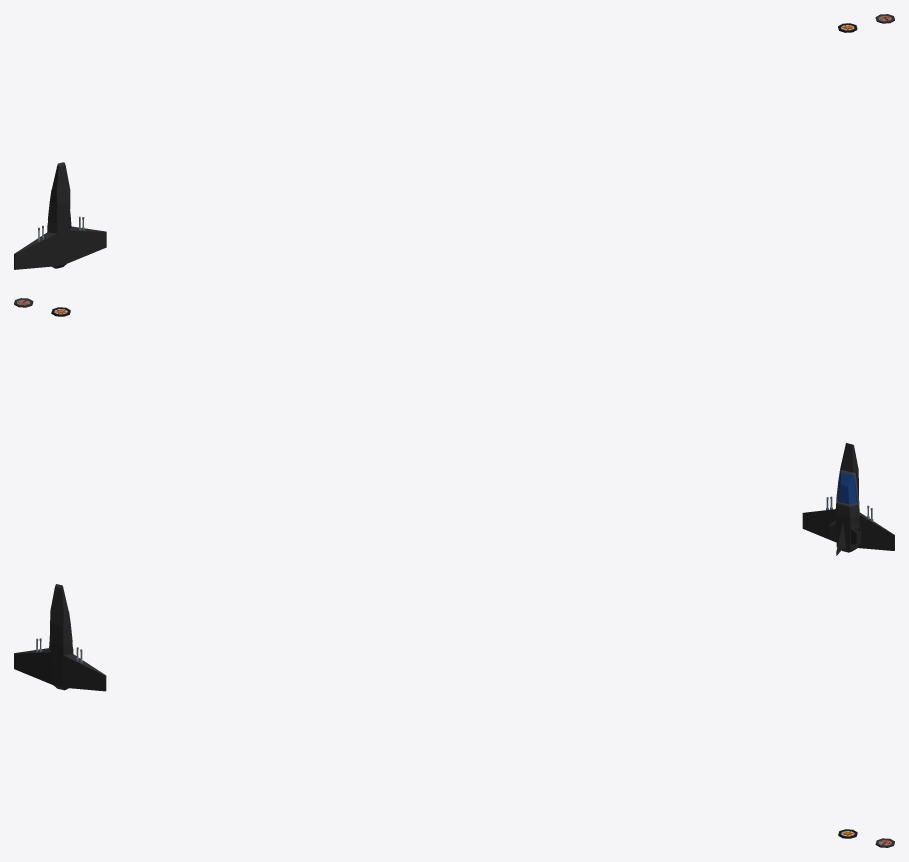
The model's file is new_playerShip_and_Powerups.fbx.
The picture shows the model from 3 angles, top to bottom: view 1: azimuth 30°, elevation 25°; view 2: azimuth 150°, elevation 25°; view 3: azimuth 330°, elevation 25°; orthographic projection.
Parts seen in each view (by area): view 1: player; view 2: player; view 3: player.
Boxes of the visible parts, bbox=[...] form: player: bbox=[14, 162, 106, 269]; player: bbox=[802, 443, 894, 555]; player: bbox=[14, 584, 106, 691].
Bounding box in the file's own units: 6653 × 764 × 208.
